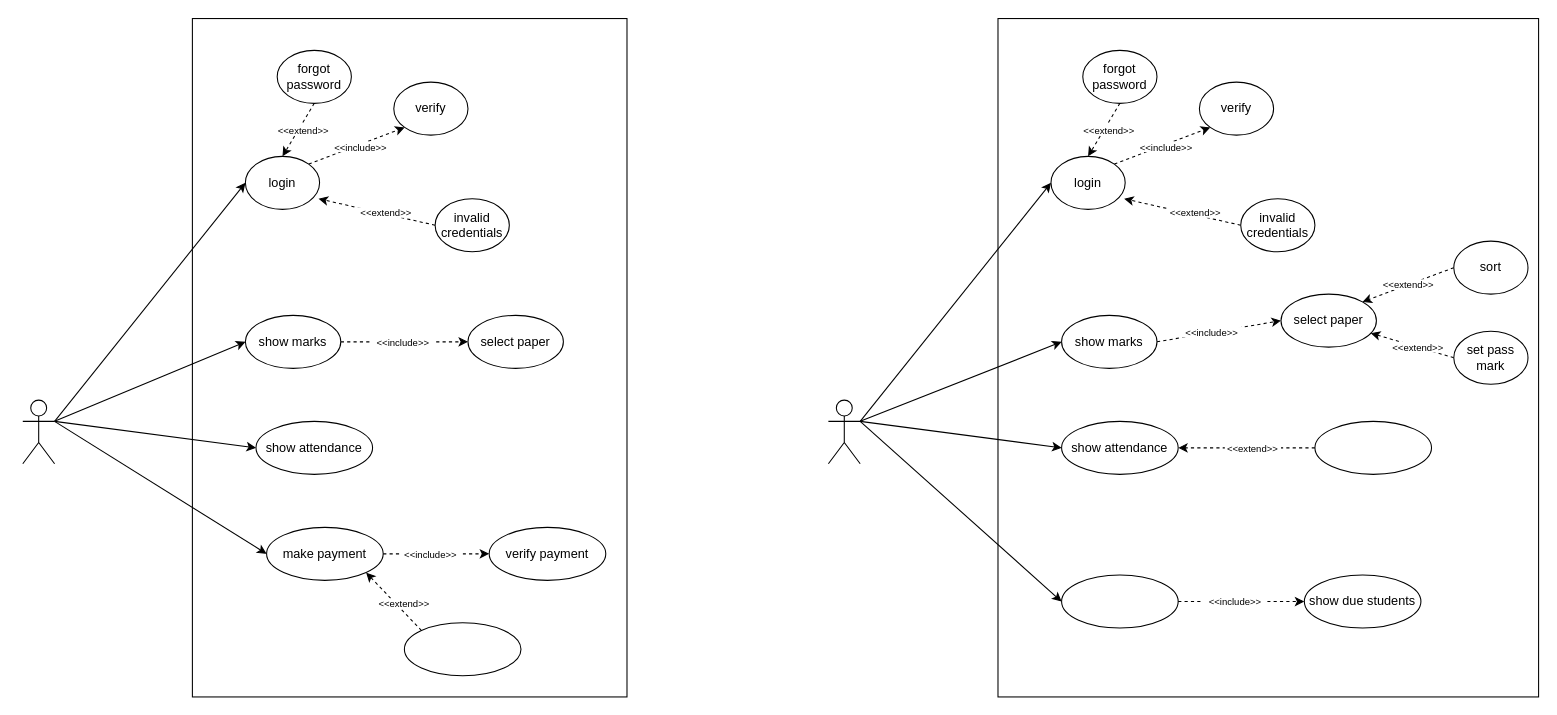
Some shapes in this 1557 by 715 pixel diagram are drawn without their labels. Each missing label, with the box of its shape:
payment failed: (403, 622, 521, 676)
show low attendants: (1314, 420, 1432, 474)
show payment status: (1061, 574, 1178, 628)
student: (22, 399, 55, 464)
Teacher: (827, 399, 860, 464)
